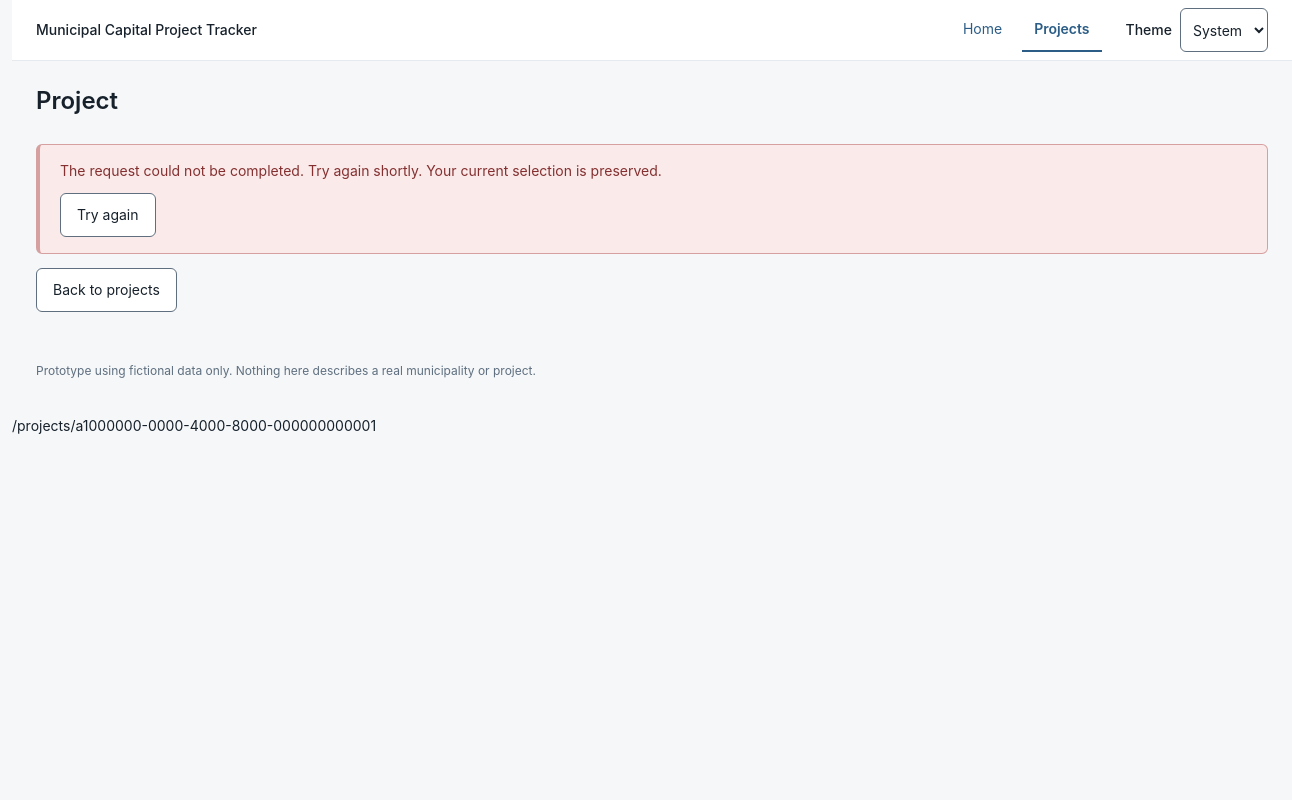
it: ProjectDetailPage › retries a detail request after a temporary failure
Expected: the message is shown, [36,144,1268,254]
What coordinates should you click on to do the following:
click the button "Try again"
I would click on:
 (108, 216)
Its box is [60,194,156,238].
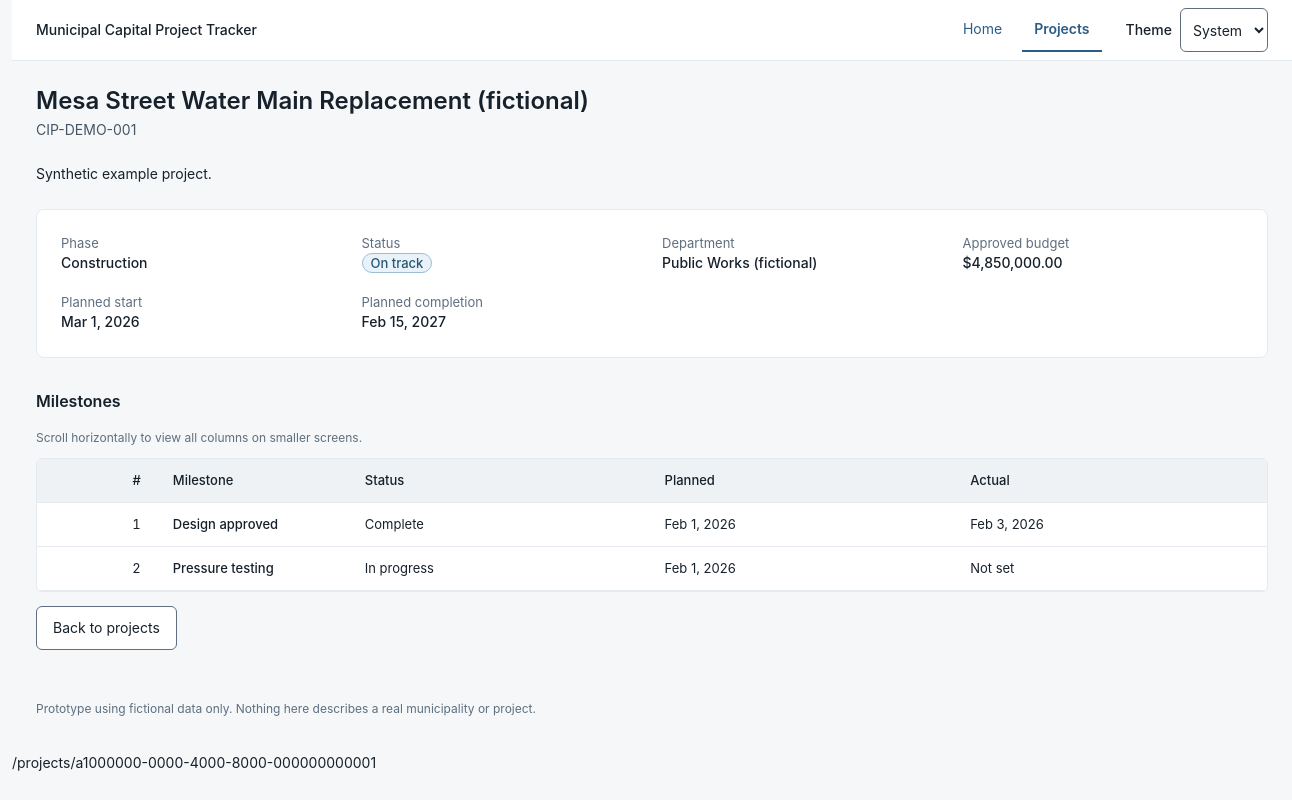
Now the text "Synthetic example project." is shown, box [36,166,212,182]
